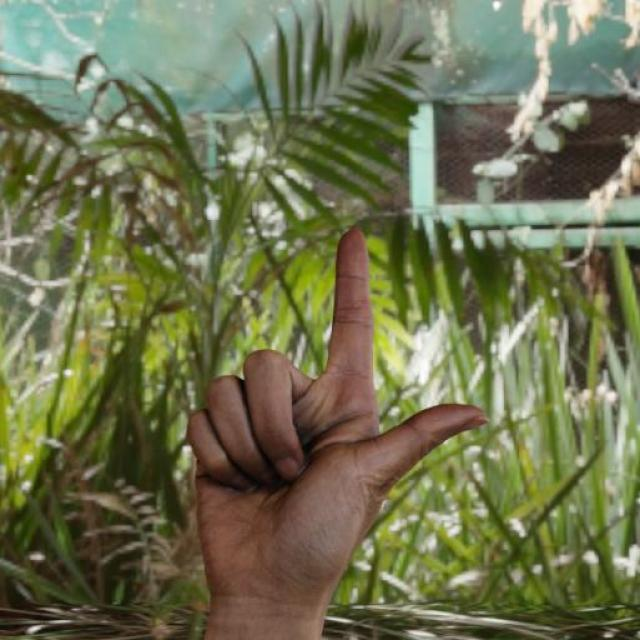L: (188, 221, 496, 615)
